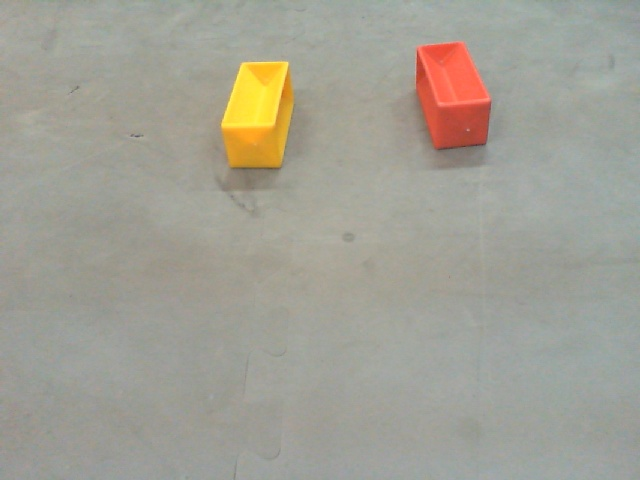RedSample: (415, 43, 492, 148)
YellowSample: (221, 56, 296, 170)
